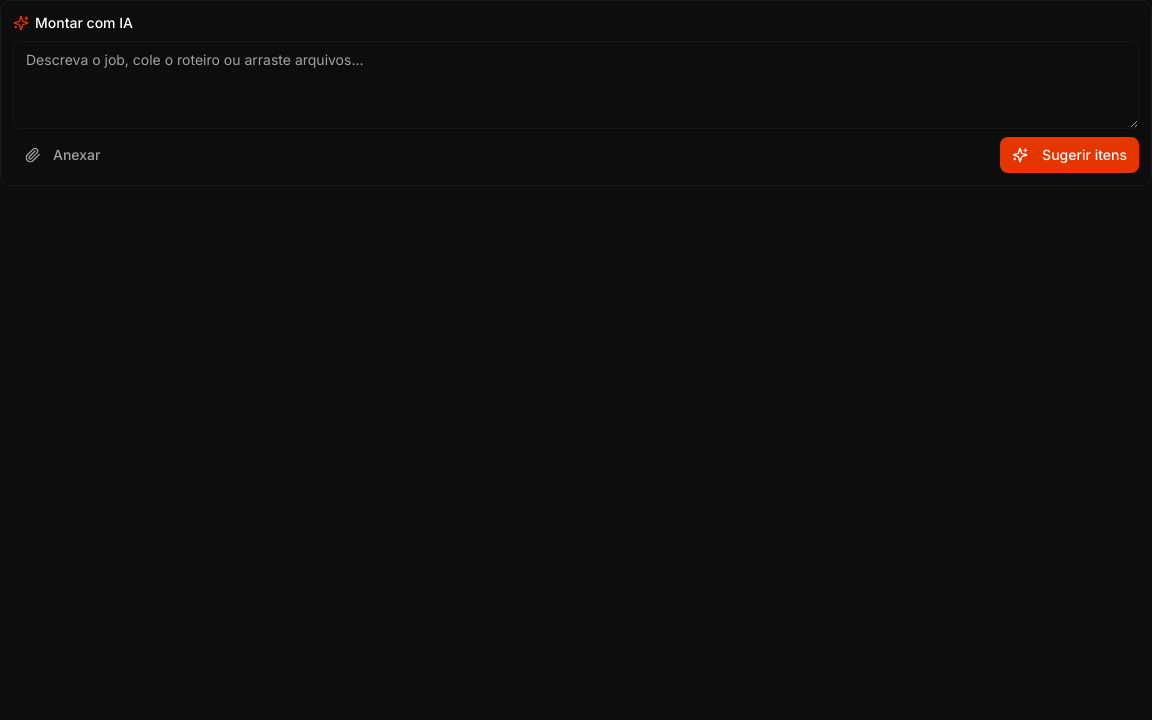
it: SugerirItensIA — entregas › sem nada marcado, não grava nada
Click the button "Sugerir itens" at point(1070, 155), box [1000,137,1139,173]
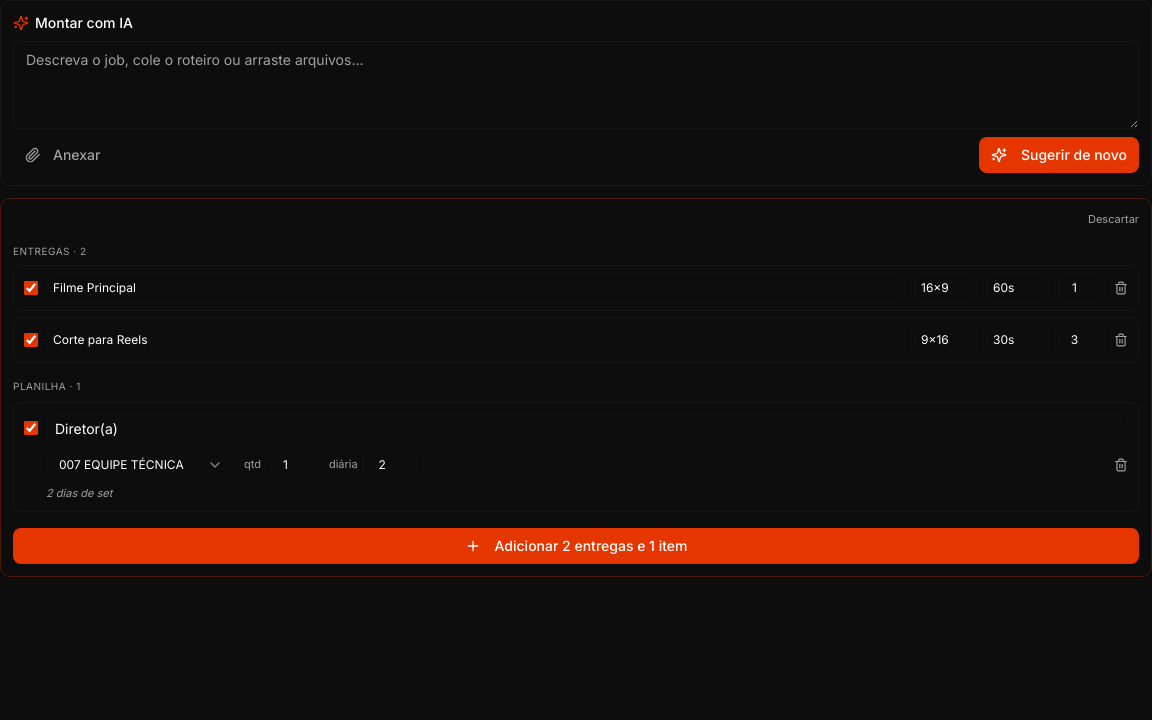
Expected: the 2nd field showing "Corte para Reels" is shown, [46,326,906,354]
Click the 1st checkbox at point(31, 288), box [24,280,38,294]
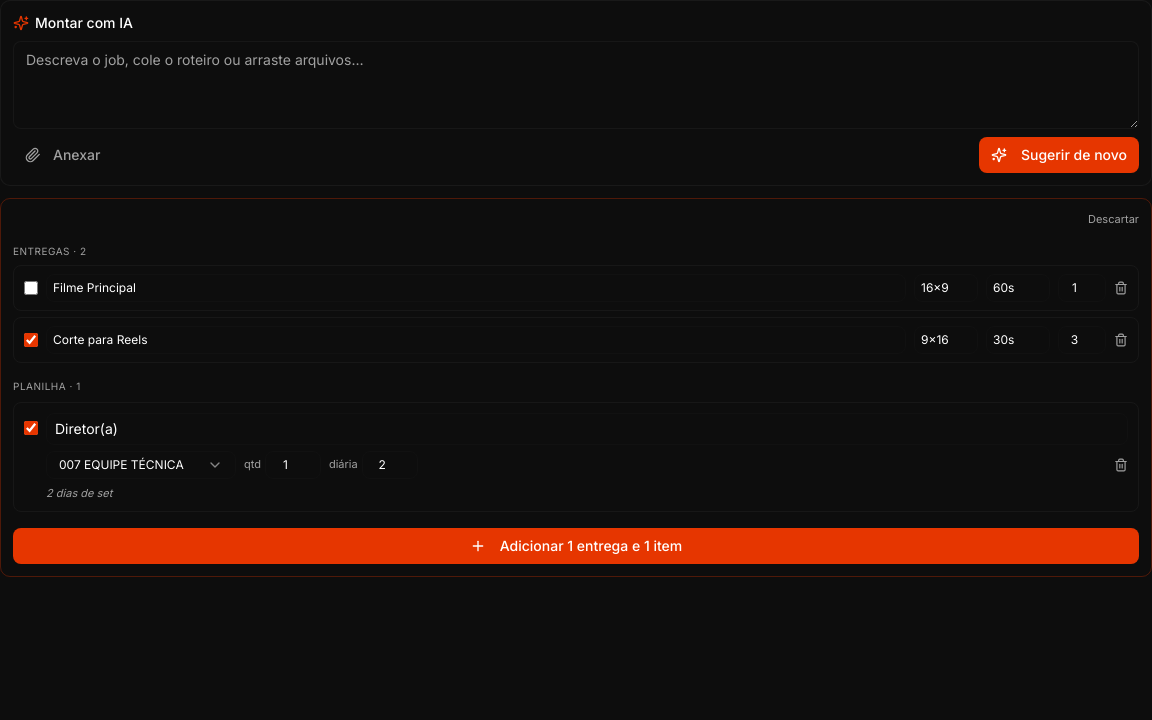
Click the 2nd checkbox at point(31, 340), box [24,332,38,346]
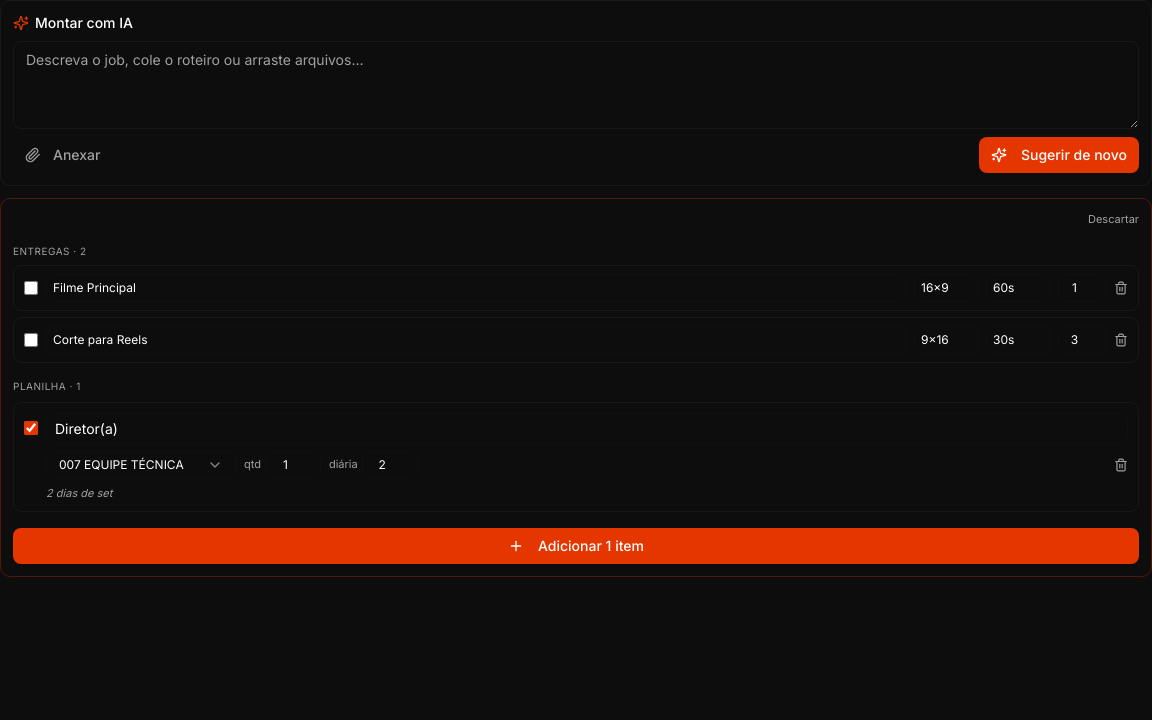
Click the checkbox below "Planilha ·" at point(31, 428), box [24,420,38,434]
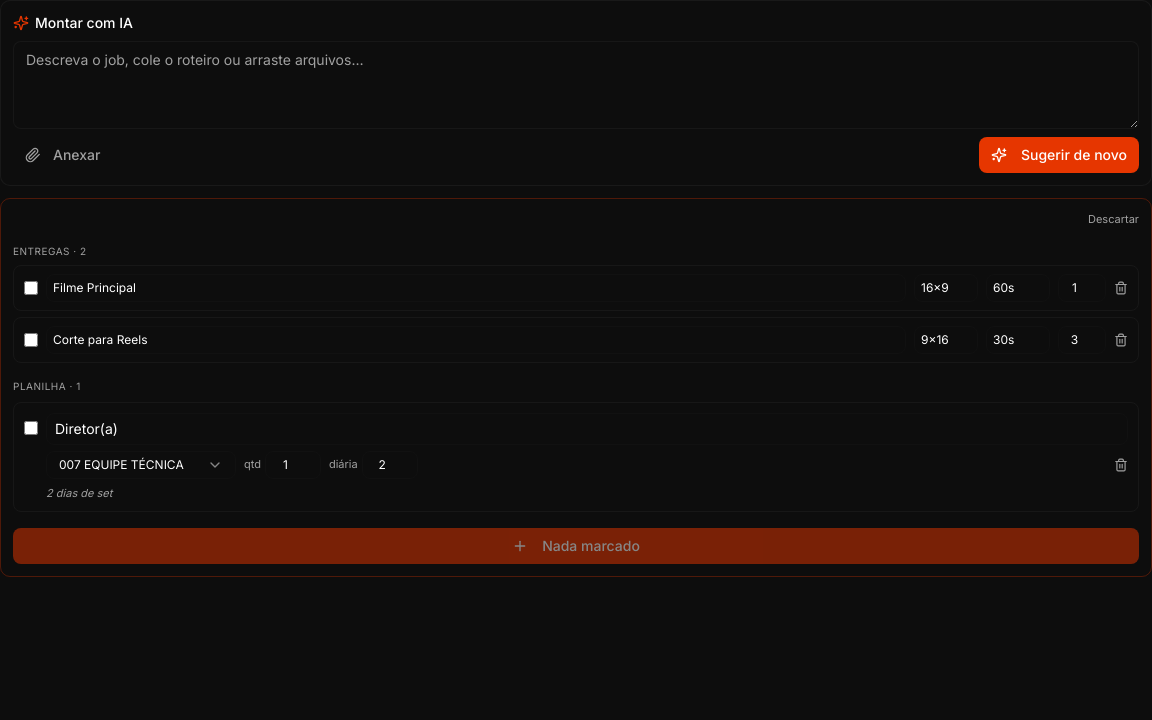
Expected: the button "Nada marcado" is disabled, [13,528,1139,564]
